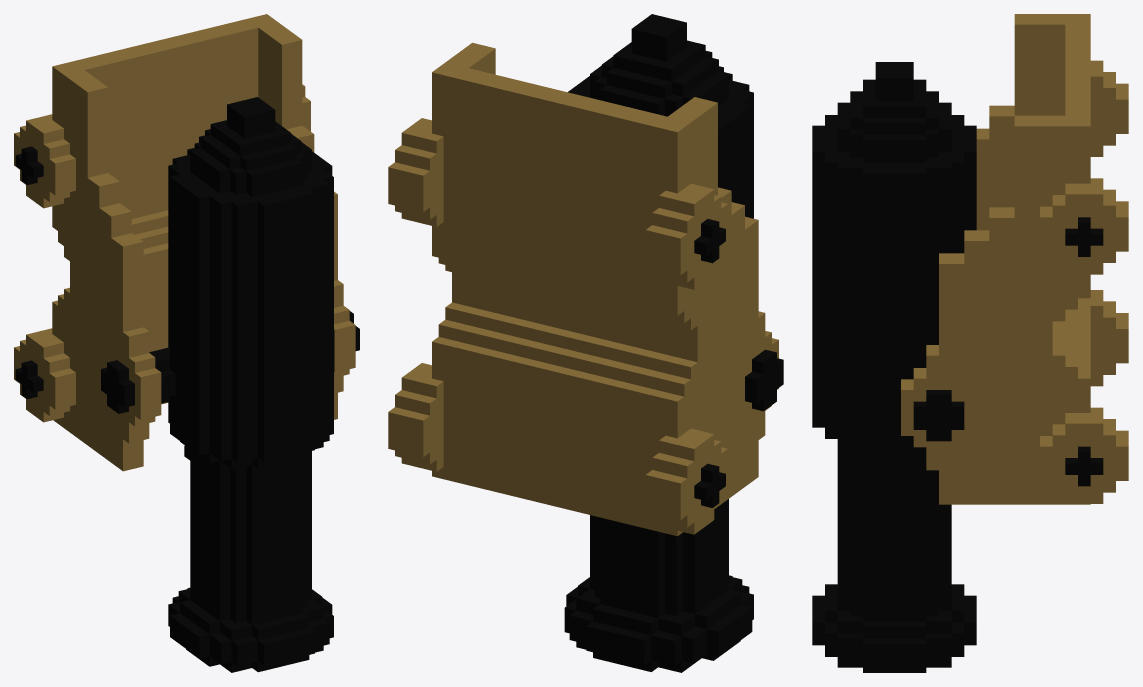
File: Cannon.fbx
3 renders of one model, left to right at view 1: azimuth 30°, elevation 25°; view 2: azimuth 150°, elevation 25°; view 3: azimuth 270°, elevation 25°, orthographic. The views are drawn at different scales.
Parts seen in each view (by area): view 1: Object.003; view 2: Object.003; view 3: Object.003.
Boxes of the visible parts, x1,y1,x2,y2 form: Object.003: (14, 14, 359, 672); Object.003: (388, 14, 783, 672); Object.003: (812, 14, 1128, 672).
Size of the model in its own units: 5400 by 10000 by 5000.
